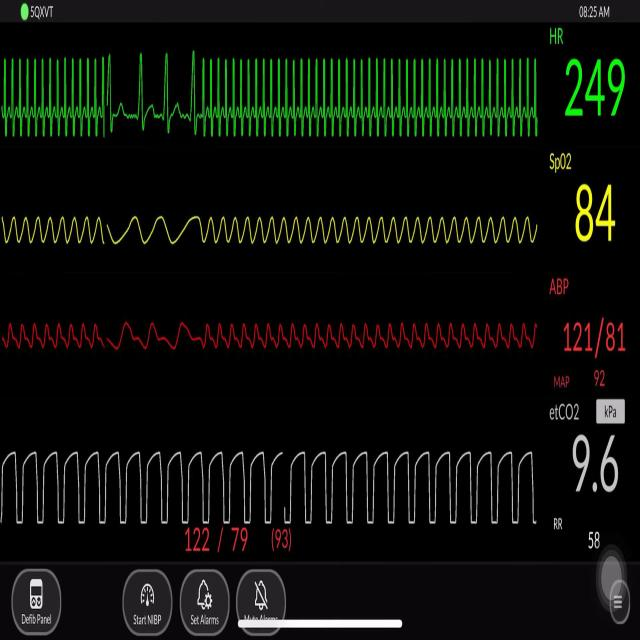danger: (200, 47, 541, 144), (7, 40, 116, 144)
